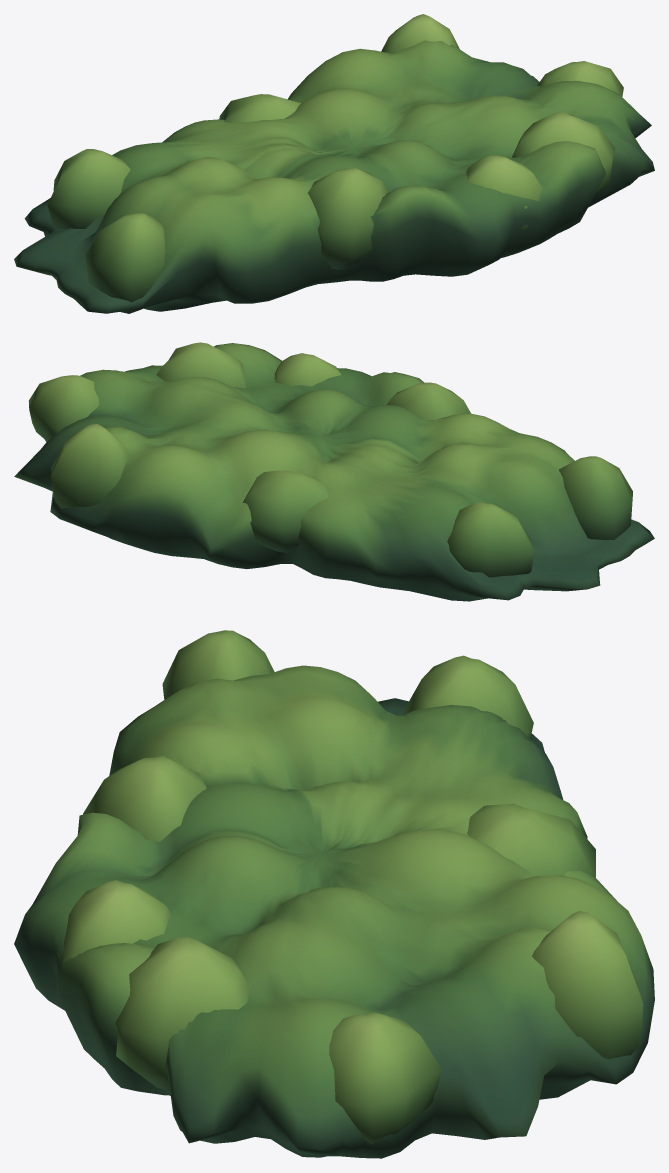
The model's file is ForestEdge_A.fbx.
The picture shows the model from 3 angles, top to bottom: view 1: azimuth 30°, elevation 25°; view 2: azimuth 150°, elevation 25°; view 3: azimuth 270°, elevation 25°; orthographic projection. The views are drawn at different scales.
Parts seen in each view (by area): view 1: ForestEdge_A; view 2: ForestEdge_A; view 3: ForestEdge_A.
Part boxes in pixels (box(x1,y1,x2,y2)): ForestEdge_A: box(14, 14, 654, 313); ForestEdge_A: box(14, 342, 654, 601); ForestEdge_A: box(14, 630, 654, 1158).
Size of the model in its own units: 4093 by 740 by 2370.
Materials: 1 (1 with a texture image).
